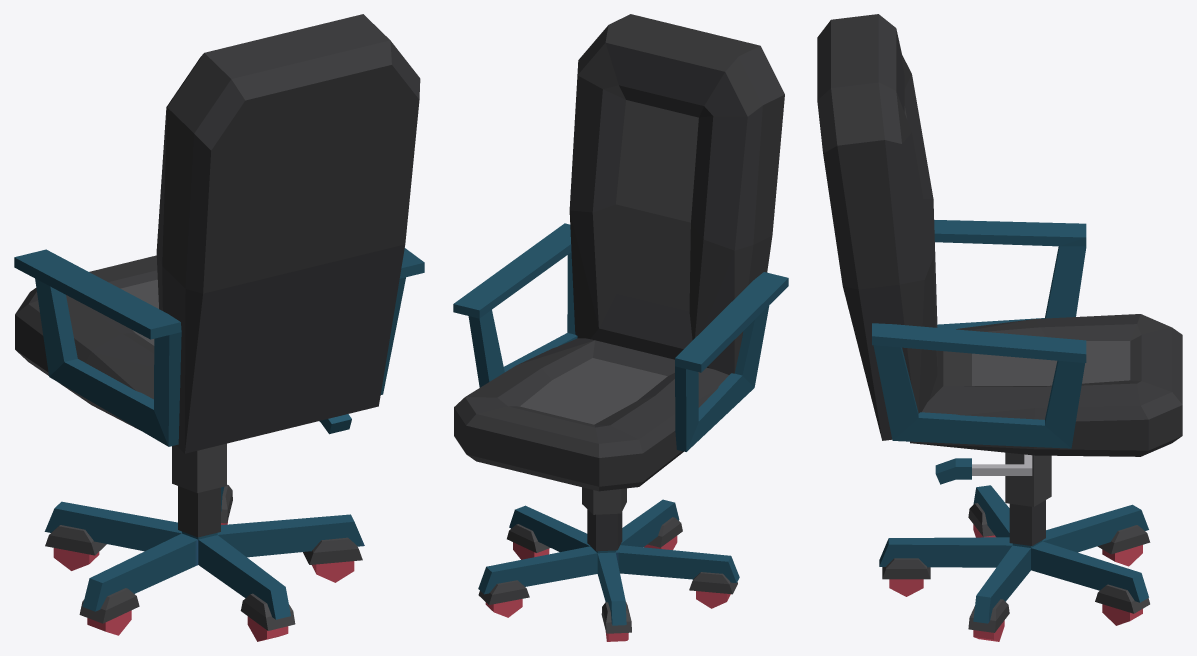
3 views of the same model, side by side, from view 1: azimuth 30°, elevation 25°; view 2: azimuth 150°, elevation 25°; view 3: azimuth 270°, elevation 25° (orthographic). The views are drawn at different scales.
Parts seen in each view (by area): view 1: mesh_chair_01_blinn1_0; view 2: mesh_chair_01_blinn1_0; view 3: mesh_chair_01_blinn1_0.
Boxes of the visible parts, bbox=[...] form: mesh_chair_01_blinn1_0: bbox=[14, 14, 424, 641]; mesh_chair_01_blinn1_0: bbox=[453, 14, 788, 641]; mesh_chair_01_blinn1_0: bbox=[817, 14, 1182, 641].
Bounding box in the file's own units: 4.58 × 8.9 × 5.42.
Materials: 1 (1 with a texture image).
